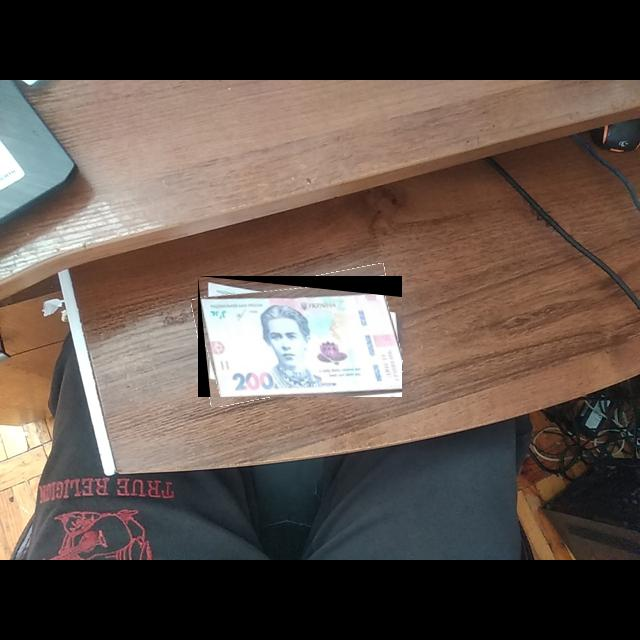200uah: (200, 292, 403, 398)
